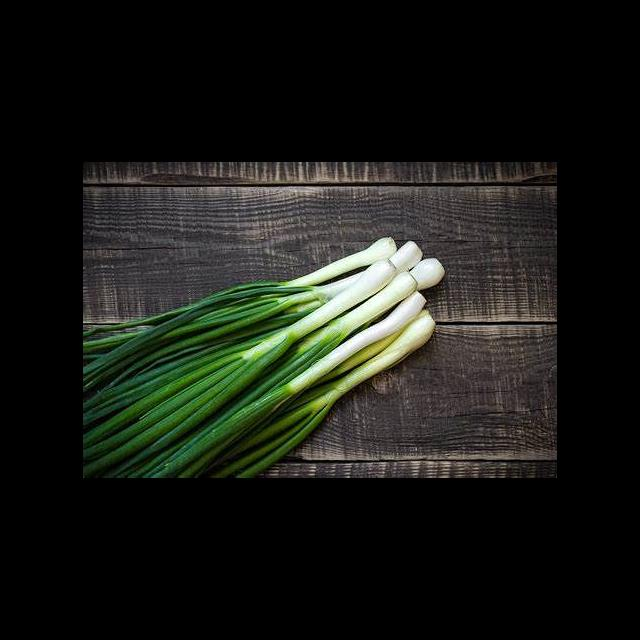green_onion: (87, 240, 442, 441)
